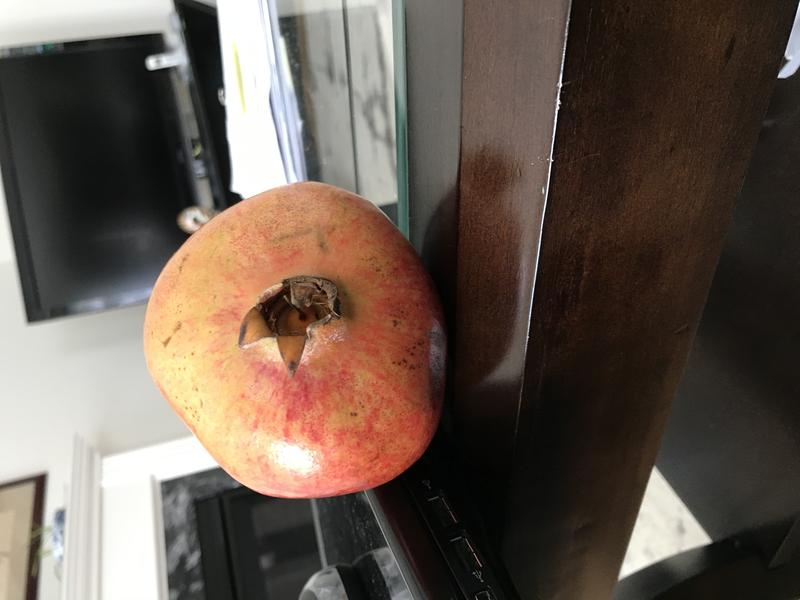pomegranate: (117, 167, 466, 512)
